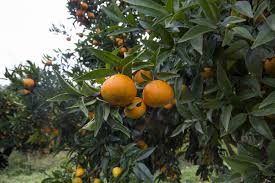orange: (103, 73, 135, 108), (145, 79, 176, 109)
